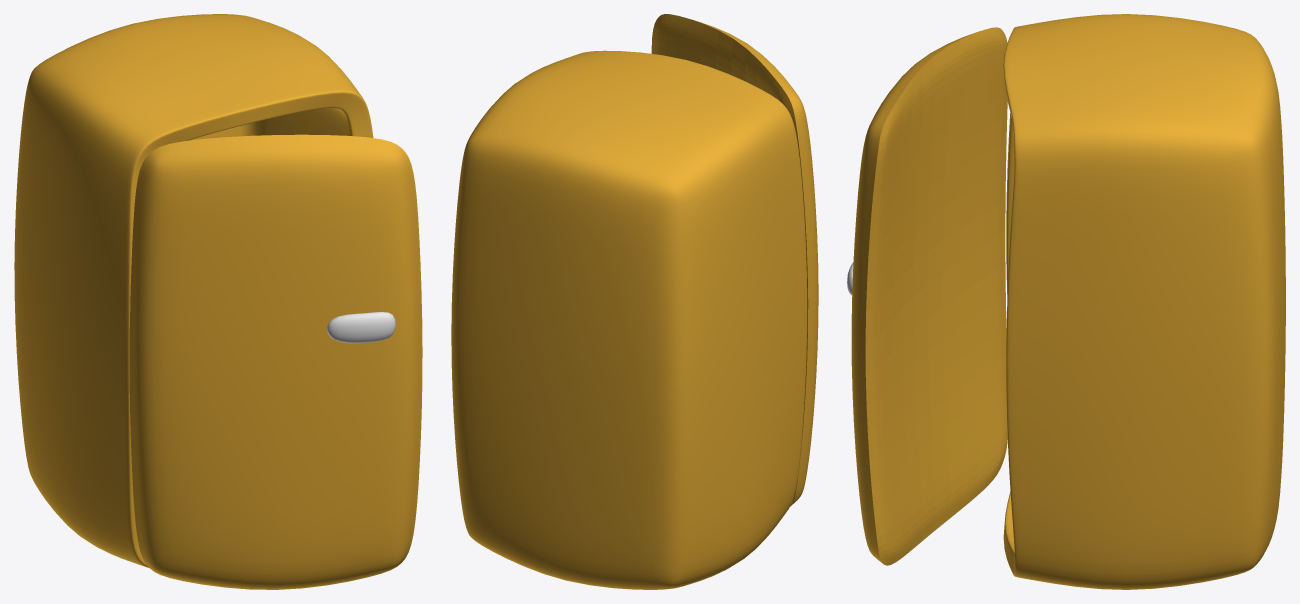
The model's file is Fridge.fbx.
3 renders of one model, left to right at view 1: azimuth 30°, elevation 25°; view 2: azimuth 150°, elevation 25°; view 3: azimuth 270°, elevation 25°, orthographic. The views are drawn at different scales.
Visible parts, largest first — view 1: Fridge_door.001, Fridge.001, Fridge_handle.001; view 2: Fridge.001, Fridge_door.001; view 3: Fridge.001, Fridge_door.001.
Part boxes in pixels (bbox=[...]): Fridge_door.001: bbox=[129, 134, 422, 589]; Fridge.001: bbox=[14, 14, 373, 567]; Fridge_handle.001: bbox=[327, 312, 395, 343]; Fridge.001: bbox=[451, 50, 807, 589]; Fridge_door.001: bbox=[651, 14, 818, 506]; Fridge.001: bbox=[1003, 14, 1285, 589]; Fridge_door.001: bbox=[851, 27, 1007, 565].
Size of the model in its own units: 90.78 by 152 by 124.
